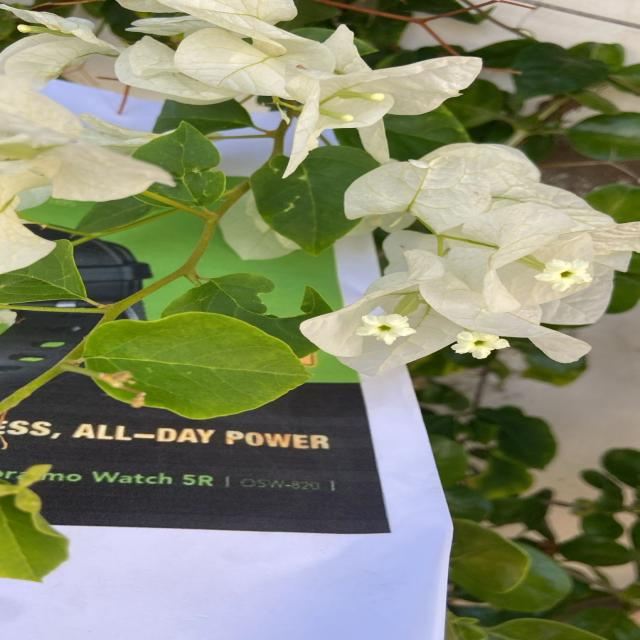Oraimo Watch 5R OSW-820: (1, 463, 349, 497)
